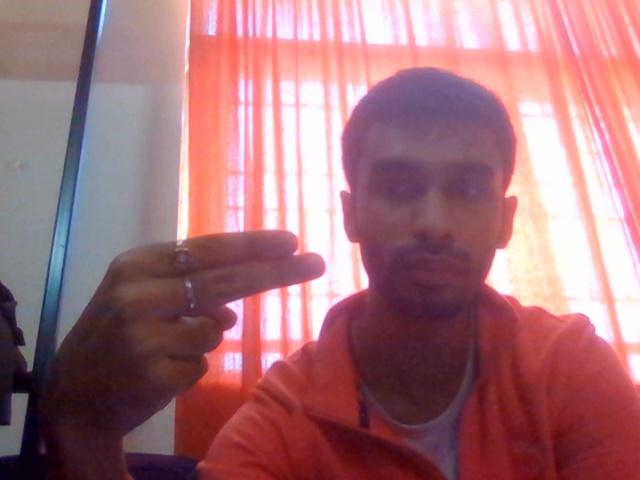H: (41, 223, 354, 453)
